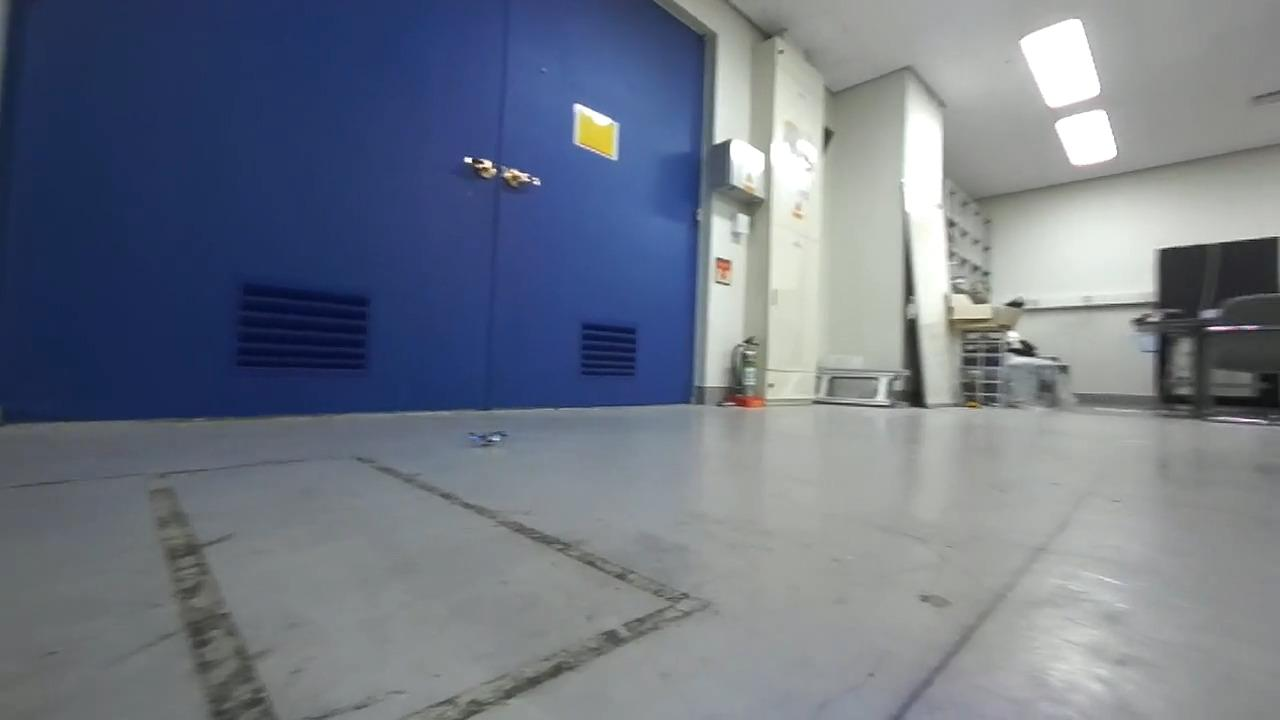crazyflie: (460, 425, 515, 455)
